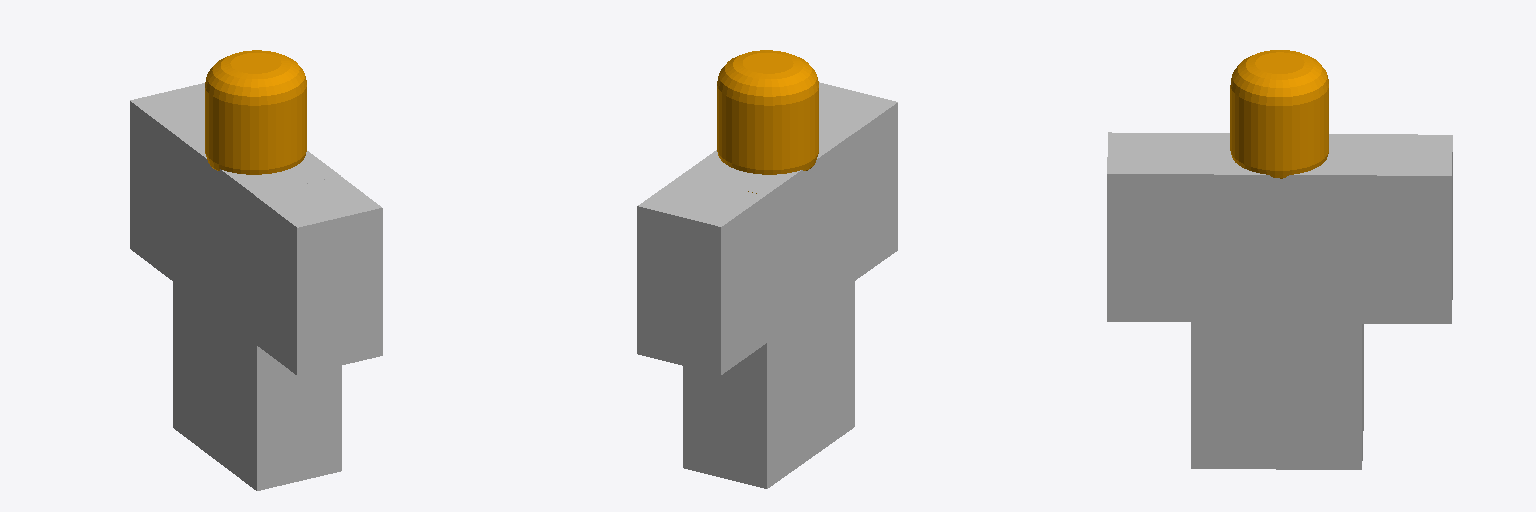
Rendered from Player.obj.
3 views of the same model, side by side, from view 1: azimuth 30°, elevation 25°; view 2: azimuth 150°, elevation 25°; view 3: azimuth 270°, elevation 25° (orthographic).
Visible parts, largest first — view 1: model; view 2: model; view 3: model.
Part boxes in pixels (left/top/right/bottom): model: left=130, top=50, right=382, bottom=490; model: left=637, top=50, right=897, bottom=488; model: left=1107, top=50, right=1452, bottom=469.
Size of the model in its own units: 0.7579 by 3.13 by 2.54.